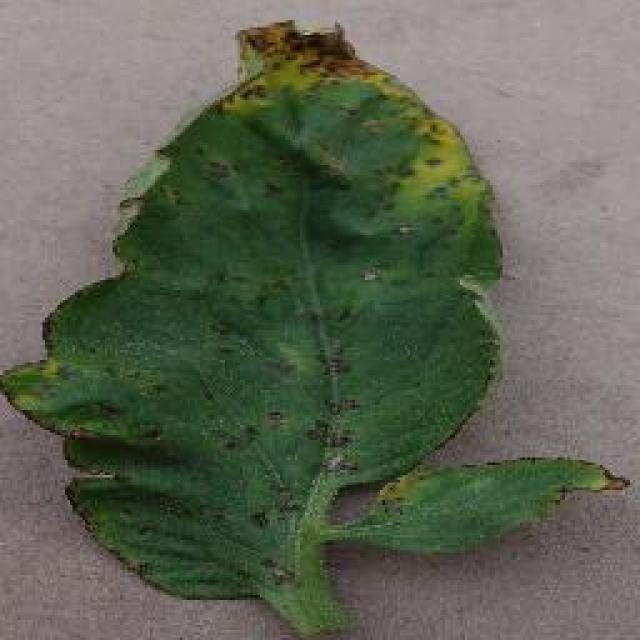bacterial spot: (0, 19, 629, 638)
